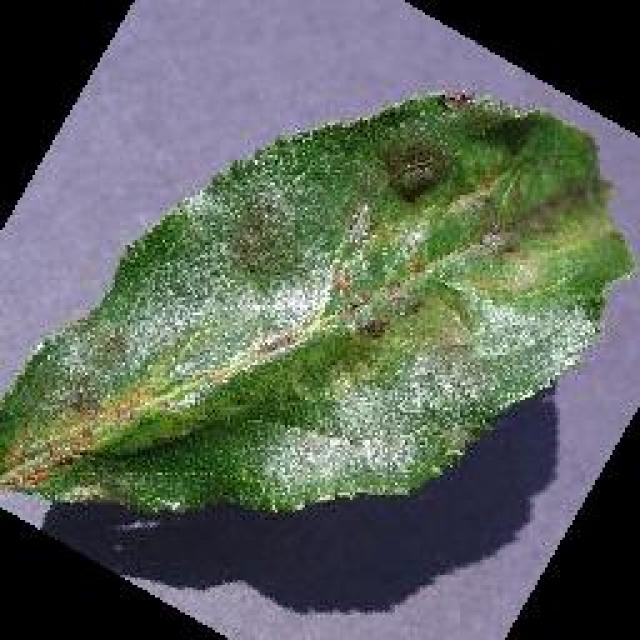apple scab disease: (0, 88, 638, 520)
